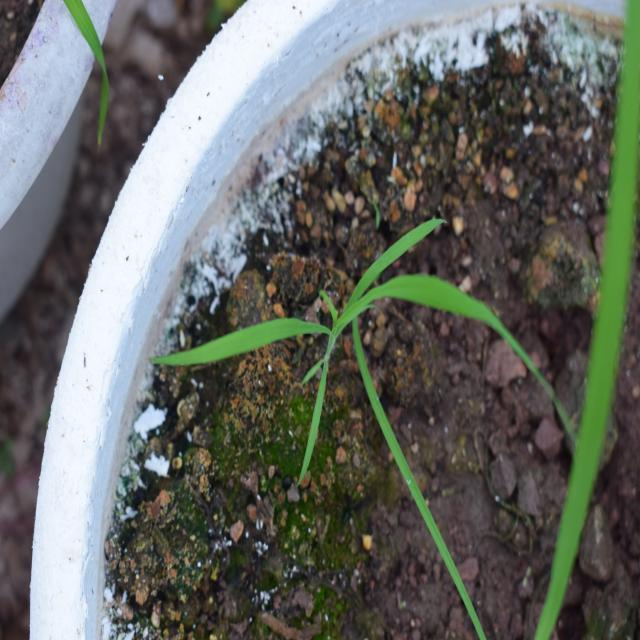barnyard_grass: (176, 167, 534, 477)
